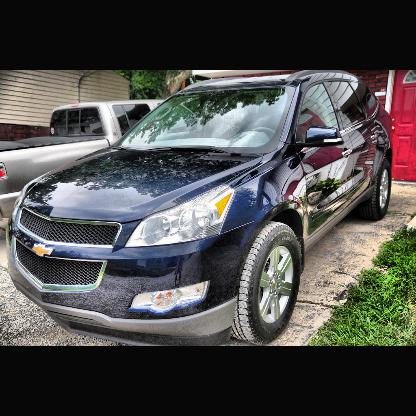Chevrolet Traverse SUV 2012: (6, 71, 392, 346)
